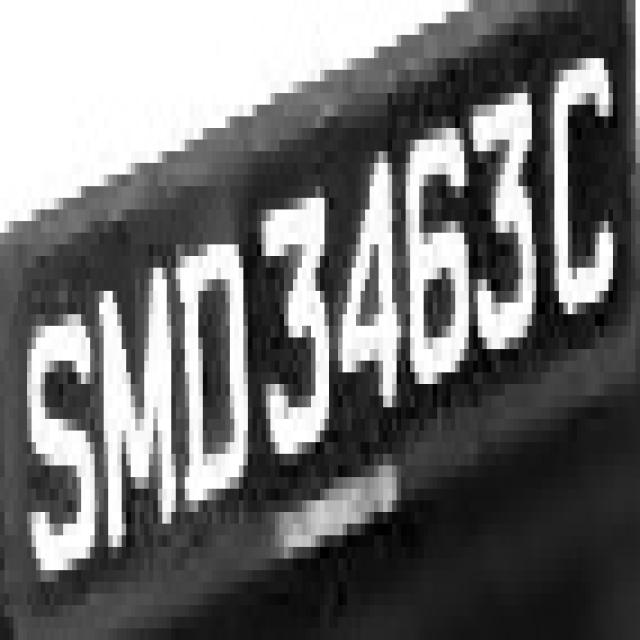3: (243, 174, 329, 500), (464, 70, 546, 384)
4: (329, 116, 406, 454)
6: (383, 116, 478, 408)
C: (550, 35, 622, 361)
D: (176, 210, 252, 524)
M: (90, 221, 180, 547)
S: (23, 279, 108, 605)
